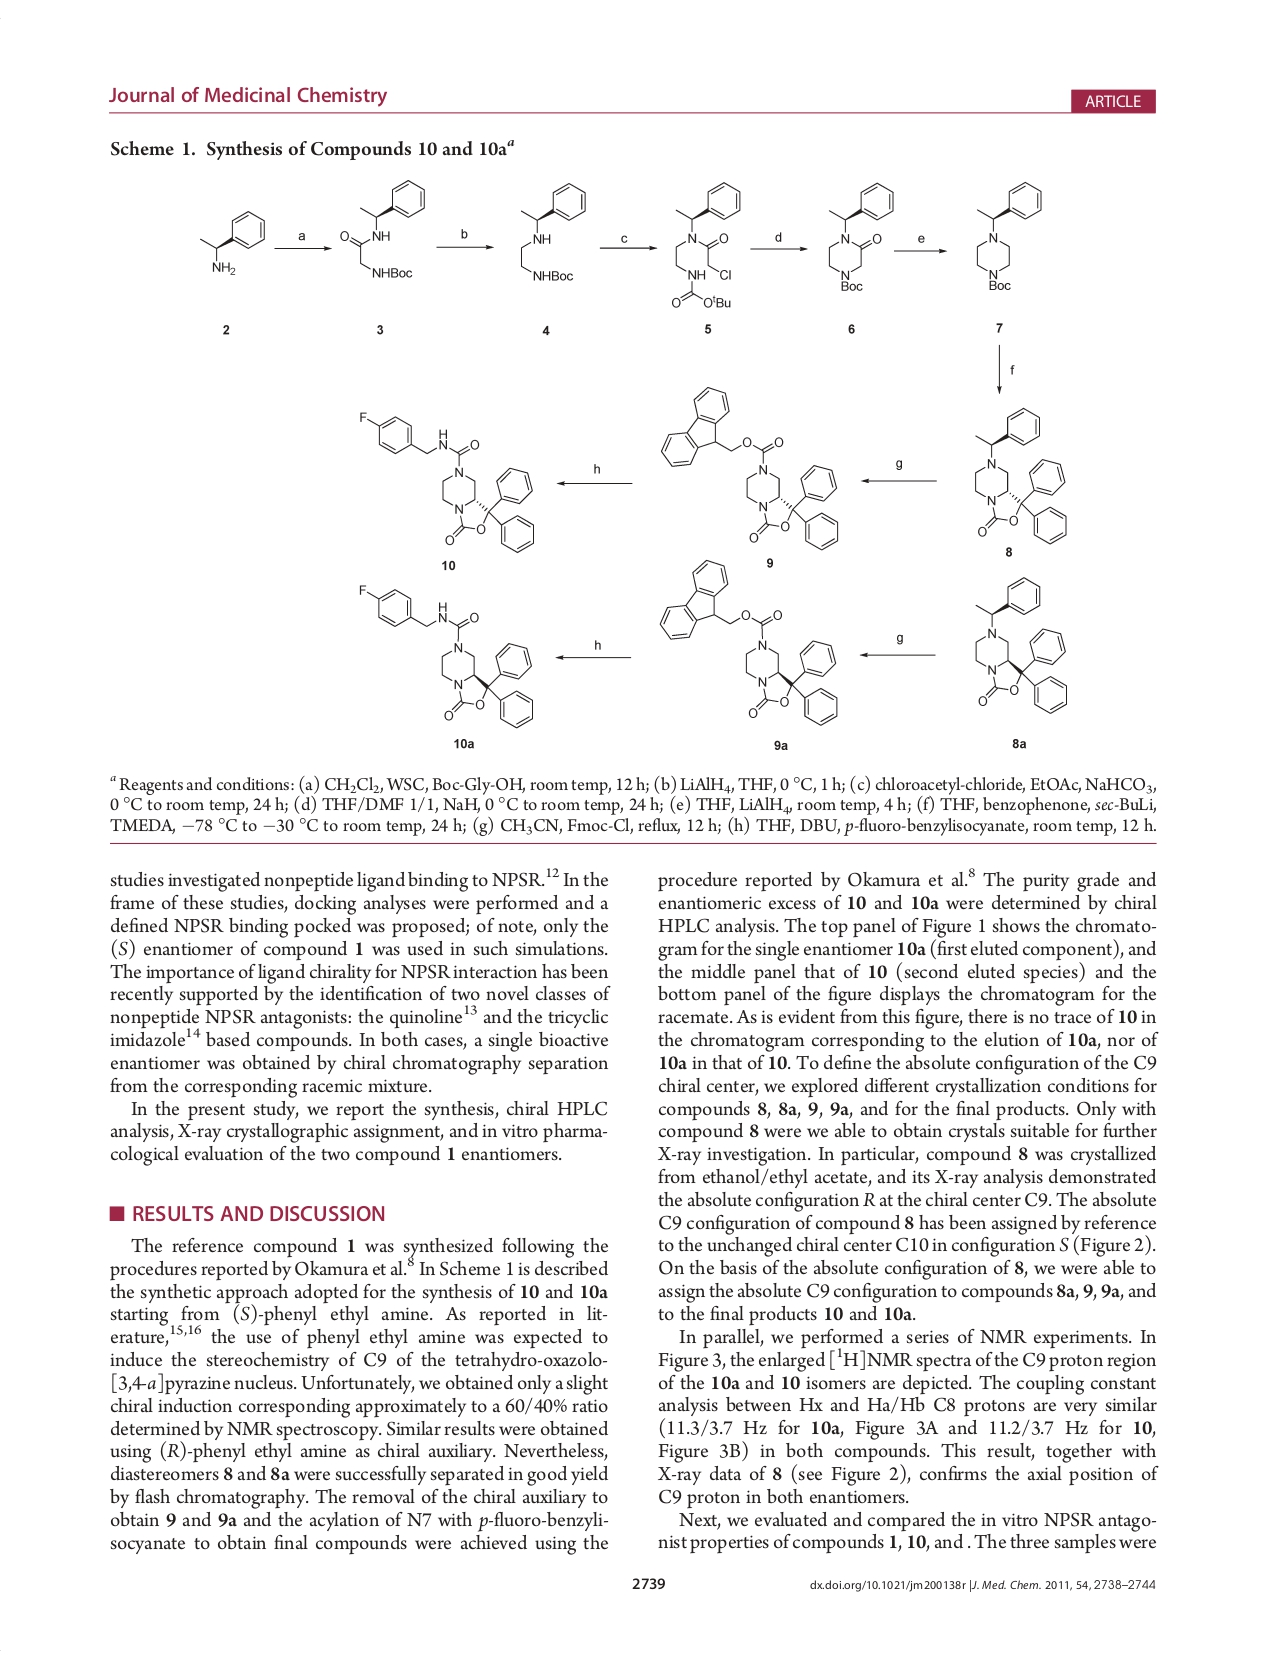exist_molecular: (654, 555, 843, 730), (660, 382, 847, 551), (354, 402, 539, 555), (348, 580, 536, 729), (968, 571, 1071, 719), (968, 404, 1072, 547), (665, 177, 743, 313), (336, 177, 430, 282), (821, 176, 898, 298), (969, 176, 1045, 293), (512, 177, 592, 287), (195, 207, 270, 278)
